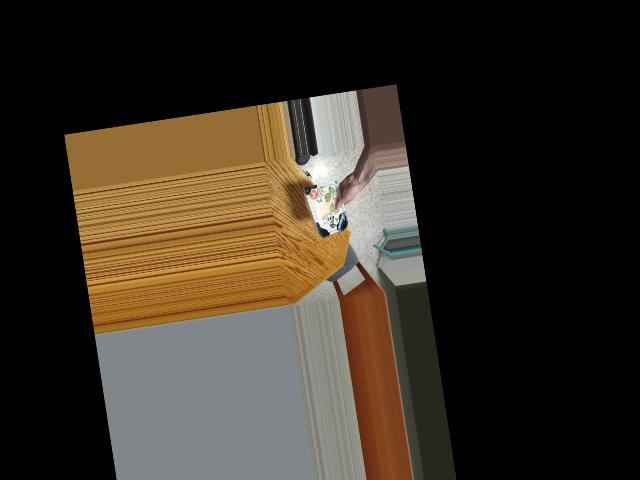cheese: (306, 185, 355, 235)
